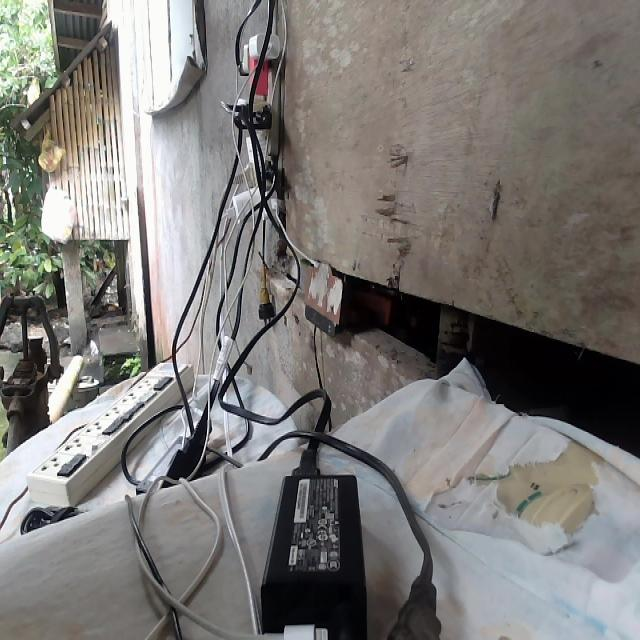-: (219, 29, 282, 220)
